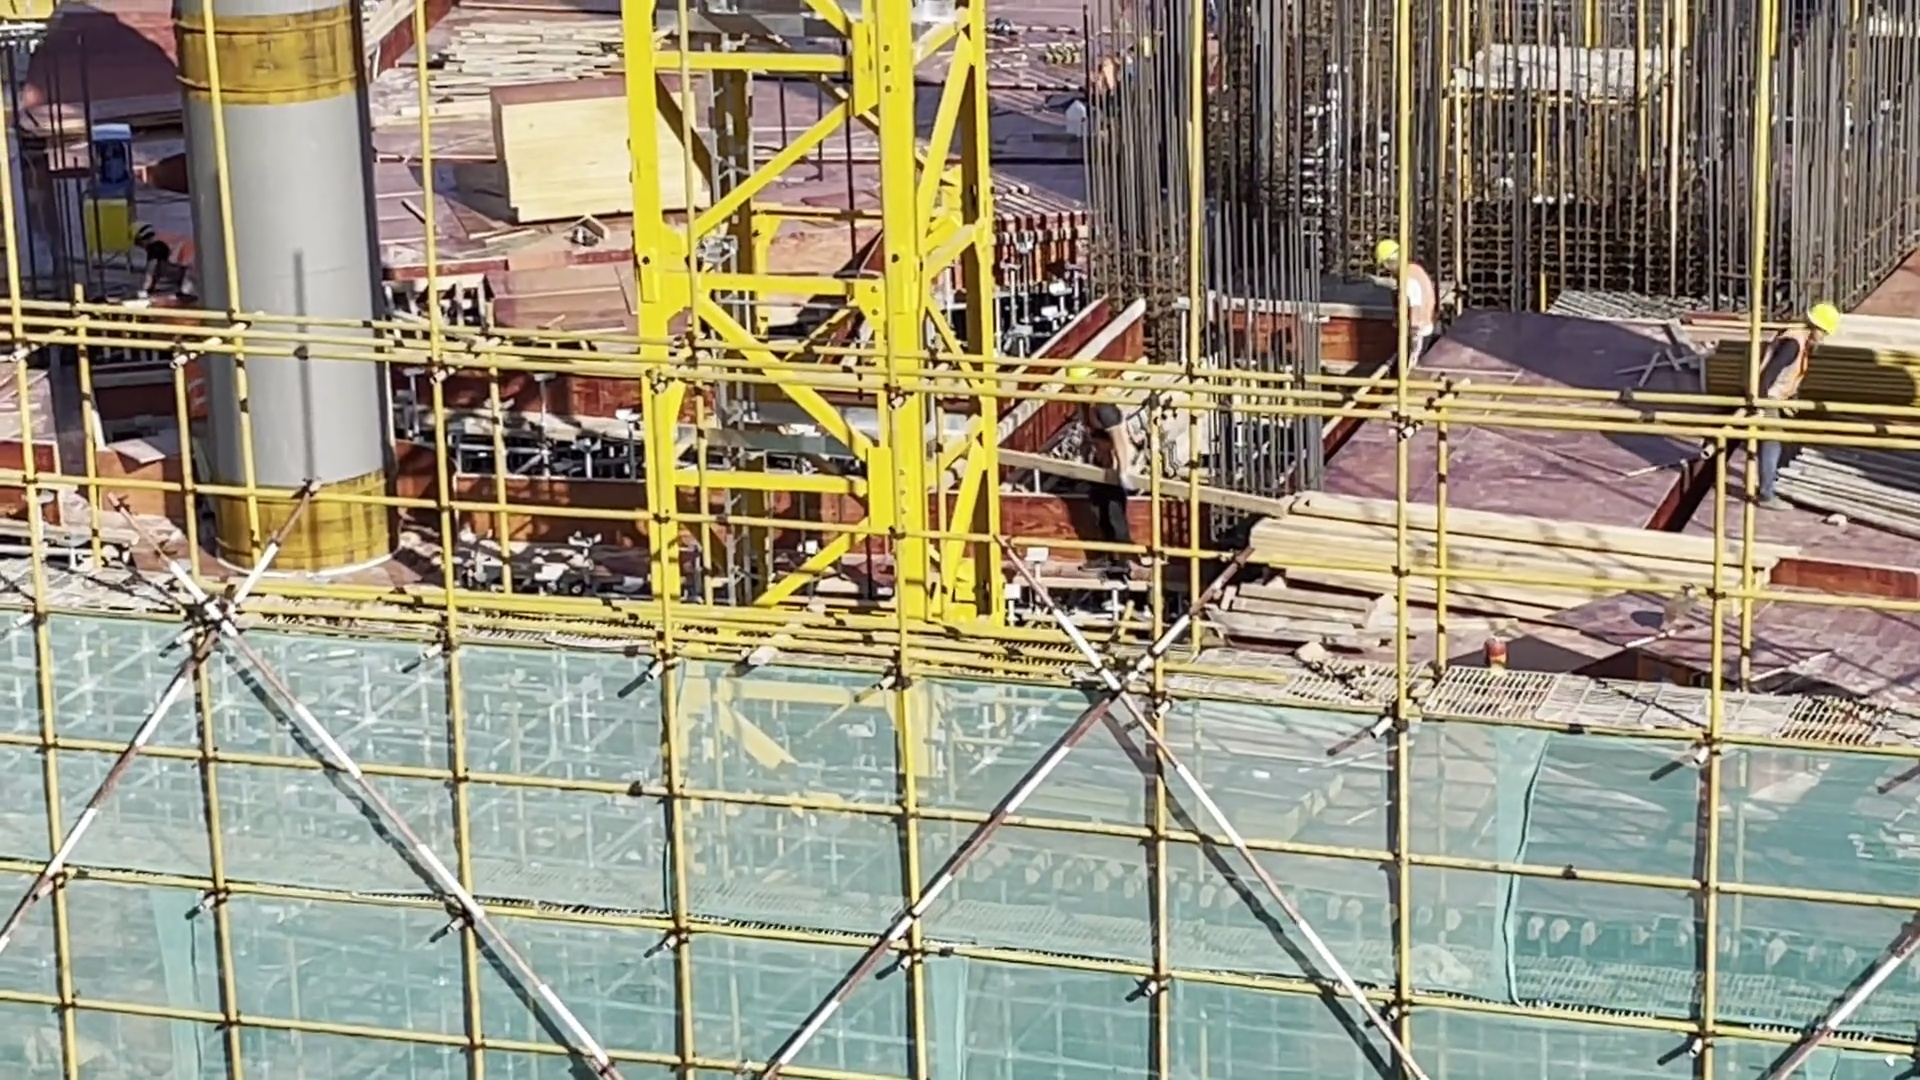board: (1240, 475, 1728, 702)
helmet: (1806, 299, 1844, 342), (1372, 239, 1404, 269), (120, 214, 150, 243)
person: (1741, 296, 1831, 519), (1353, 234, 1441, 370), (117, 209, 207, 304)
vest: (1751, 322, 1808, 420), (1391, 271, 1438, 353), (160, 231, 196, 286)
